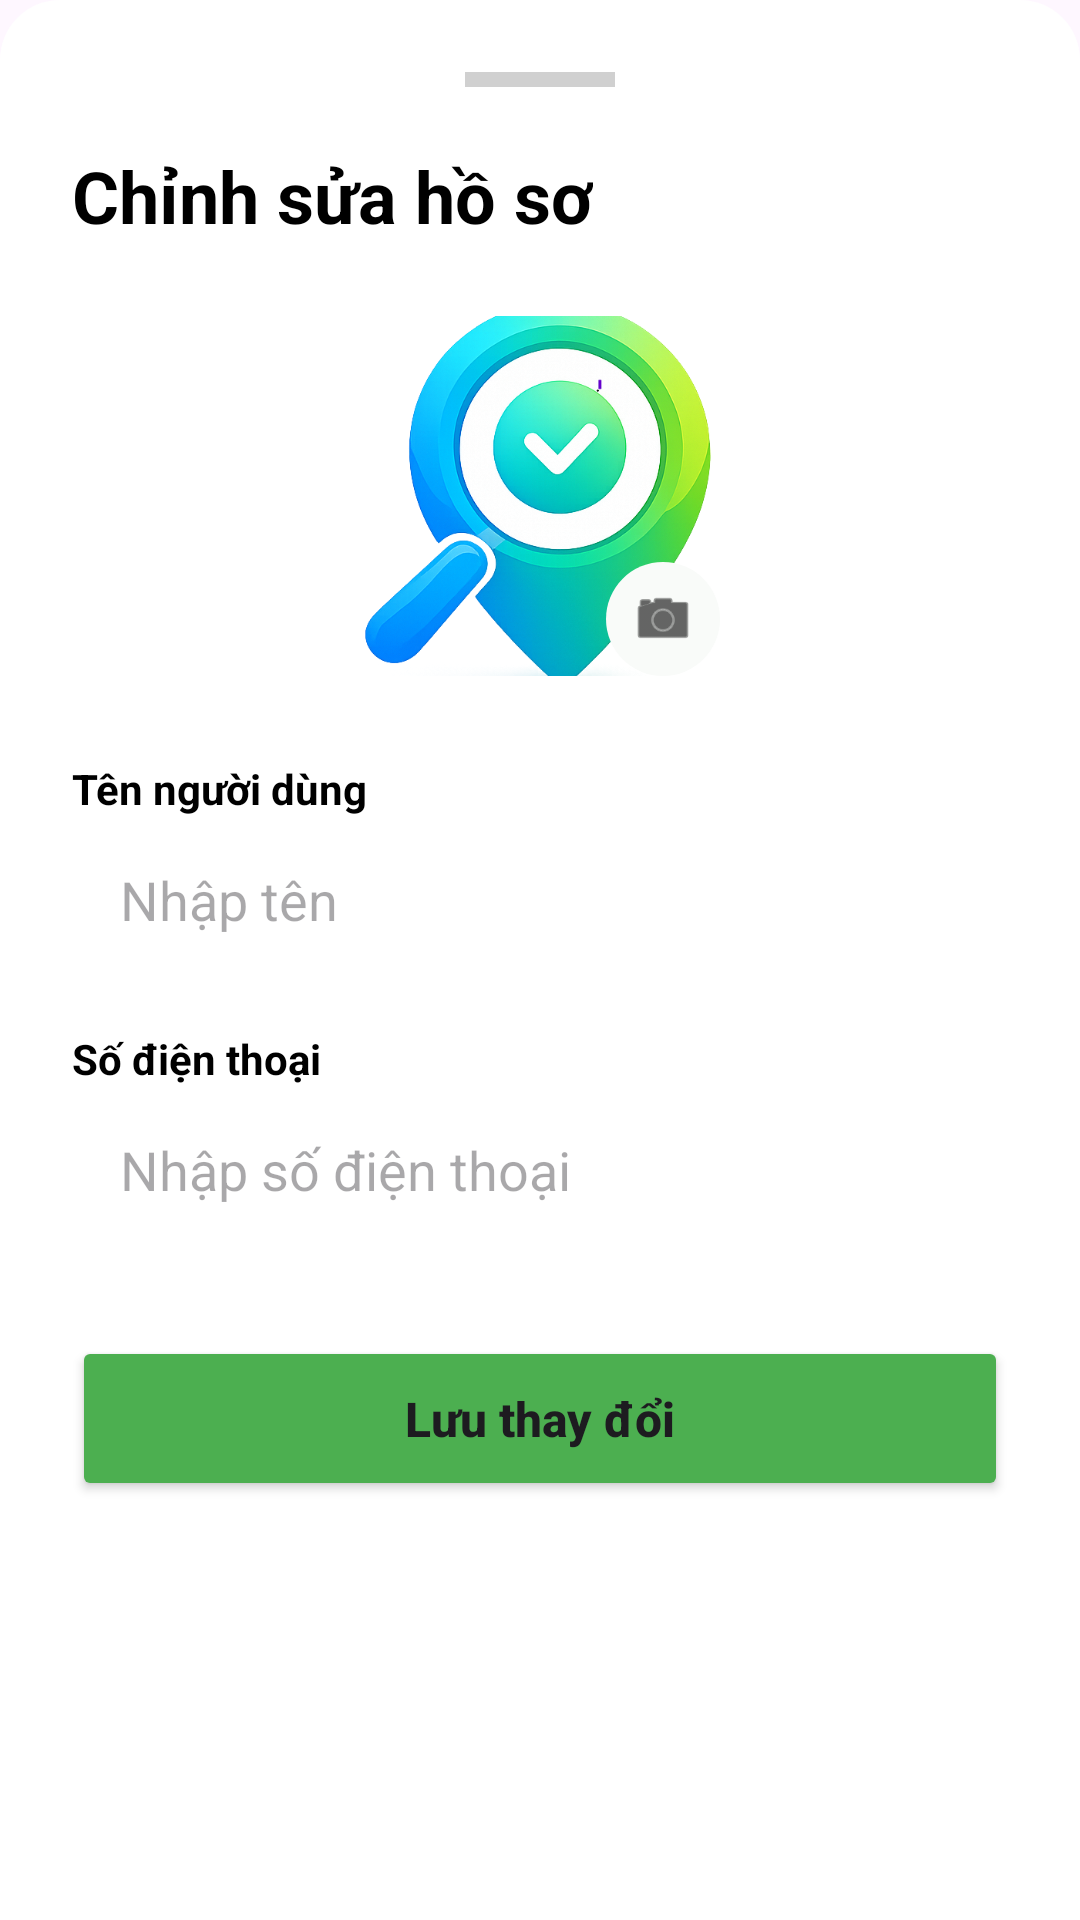

Where to tap for icons on this 1080×1920 app screen, as [x,y]:
camera: [663,618]
